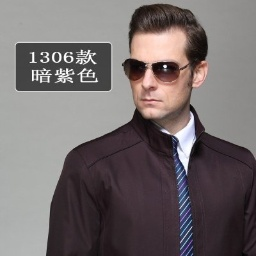face: (129, 3, 207, 120)
